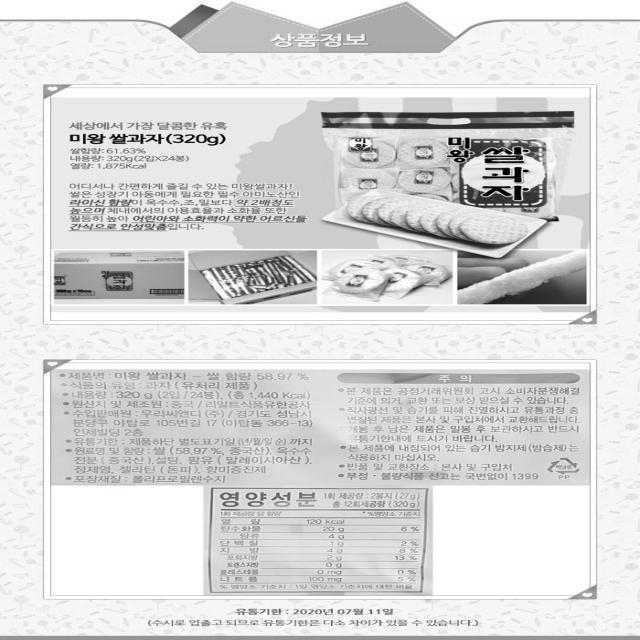Nutrition Label: (192, 481, 446, 601)
